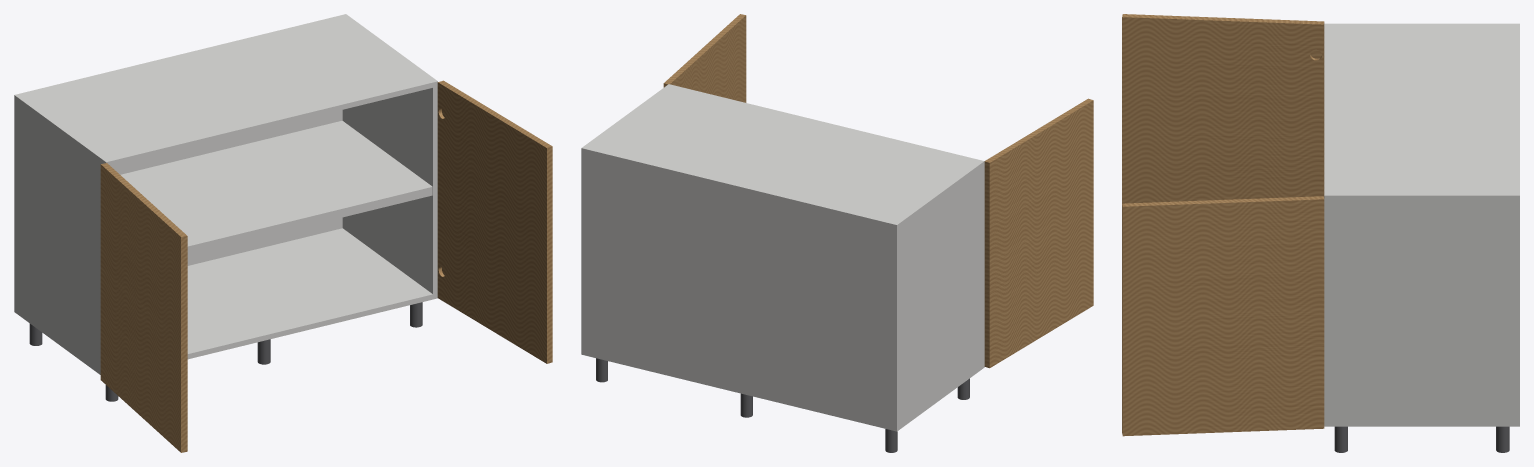
Rendered from w1200_onset_pair_open.glb.
The picture shows the model from 3 angles, left to right: view 1: azimuth 30°, elevation 25°; view 2: azimuth 150°, elevation 25°; view 3: azimuth 270°, elevation 25°; orthographic projection. The views are drawn at different scales.
Parts seen in each view (by area): view 1: white, oak, leg; view 2: white, oak, leg; view 3: oak, white, leg.
Part boxes in pixels (x1=…): white: x1=14, y1=14, x2=437, y2=374; oak: x1=100, y1=80, x2=552, y2=452; leg: x1=29, y1=302, x2=422, y2=401; white: x1=581, y1=84, x2=984, y2=431; oak: x1=663, y1=14, x2=1093, y2=368; leg: x1=596, y1=358, x2=969, y2=452; oak: x1=1122, y1=14, x2=1324, y2=436; white: x1=1324, y1=23, x2=1519, y2=426; leg: x1=1334, y1=426, x2=1509, y2=452.
Bounding box in the file's own units: 1.34 × 0.85 × 1.17.
Materials: 3 (1 with a texture image).
